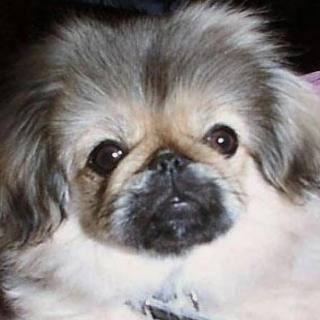dog: (0, 18, 314, 264)
nose: (142, 138, 188, 180)
